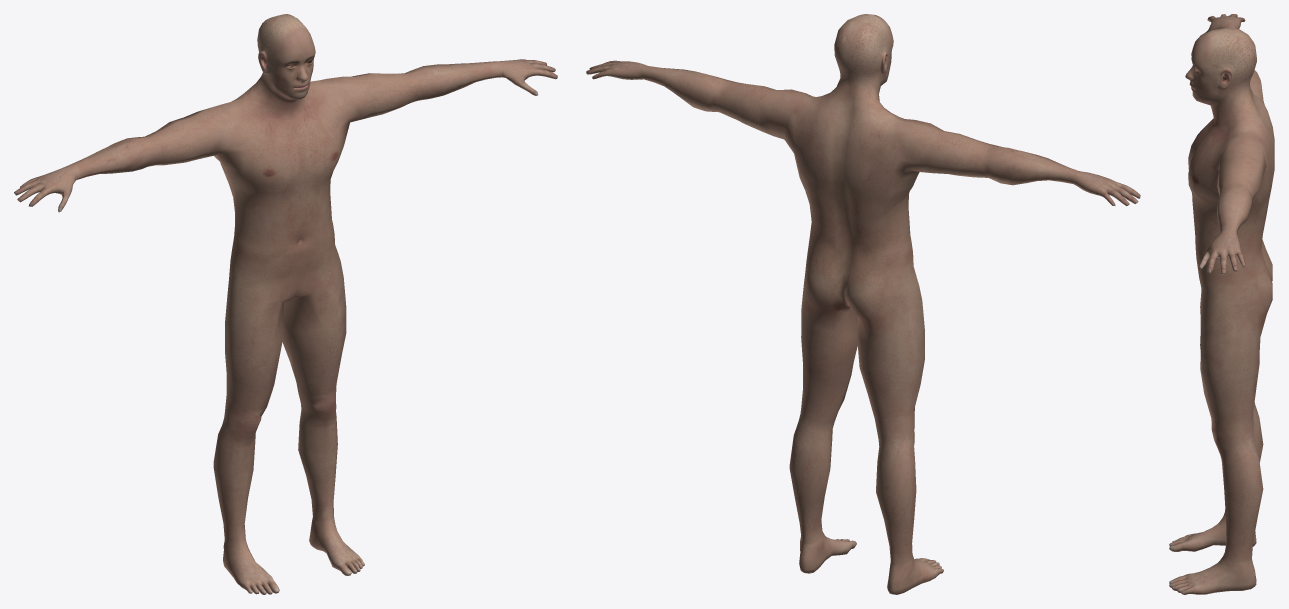
Rendered from Skin.fbx.
The picture shows the model from 3 angles, left to right: view 1: azimuth 30°, elevation 25°; view 2: azimuth 150°, elevation 25°; view 3: azimuth 270°, elevation 25°; orthographic projection. The views are drawn at different scales.
Visible parts, largest first — view 1: Skin; view 2: Skin; view 3: Skin.
Boxes of the visible parts, bbox=[...] form: Skin: bbox=[14, 14, 557, 594]; Skin: bbox=[586, 14, 1140, 594]; Skin: bbox=[1169, 14, 1274, 594].
Bounding box in the file's own units: 161 × 156 × 27.77.
